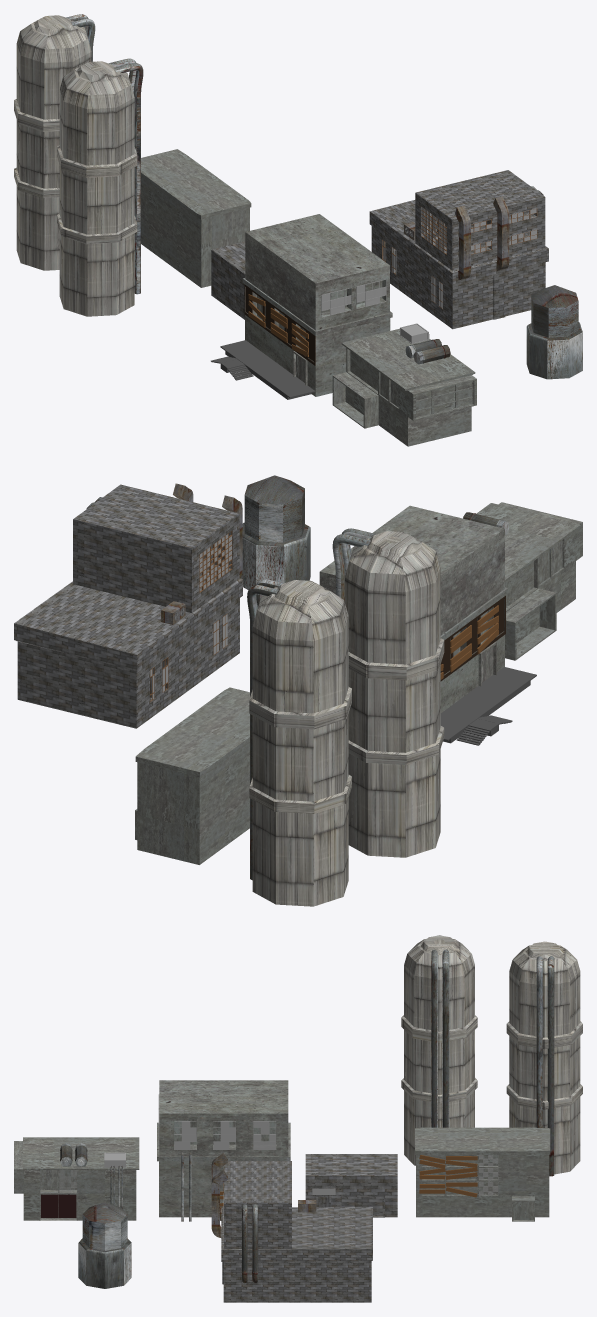
File: SM_T_Zone1.fbx
3 views of the same model, one above another, from view 1: azimuth 30°, elevation 25°; view 2: azimuth 150°, elevation 25°; view 3: azimuth 270°, elevation 25° (orthographic). The views are drawn at different scales.
Visible parts, largest first — view 1: polySurface208, polySurface204, polySurface177, polySurface211, polySurface198, polySurface193, polySurface176, polySurface210, polySurface191, pCube23, pCube69, pCube68 (+4 smaller); view 2: polySurface208, polySurface198, polySurface211, polySurface193, polySurface204, polySurface177, polySurface176, pCube23, polySurface210, pCube68, pCube14, polySurface205 (+3 smaller); view 3: polySurface208, polySurface204, polySurface198, polySurface211, polySurface177, polySurface210, polySurface193, polySurface191, polySurface176, pCube68, pCylinder41, pCube69 (+5 smaller).
Boxes of the visible parts, box(x1,y1,x2,y2) form: polySurface208: box(14, 15, 137, 316); polySurface204: box(242, 214, 392, 396); polySurface177: box(332, 328, 476, 446); polySurface211: box(141, 149, 251, 287); polySurface198: box(369, 200, 548, 329); polySurface193: box(415, 170, 545, 270); polySurface176: box(526, 285, 582, 379); polySurface210: box(66, 14, 143, 294); polySurface191: box(211, 241, 245, 319); pCube23: box(220, 340, 315, 399); pCube69: box(455, 196, 509, 279); pCube68: box(248, 294, 308, 356); polySurface208: box(249, 531, 444, 906); polySurface198: box(14, 578, 242, 728); polySurface211: box(135, 687, 249, 864); polySurface193: box(73, 484, 239, 612); polySurface204: box(319, 505, 507, 713); polySurface177: box(476, 502, 582, 660); polySurface176: box(241, 475, 310, 589); pCube23: box(440, 667, 536, 743); polySurface210: box(247, 528, 376, 880); pCube68: box(440, 605, 498, 679); pCube14: box(199, 531, 232, 592); polySurface205: box(440, 595, 505, 681); polySurface208: box(401, 935, 582, 1174); polySurface204: box(157, 1080, 290, 1217); polySurface198: box(221, 1207, 372, 1302); polySurface211: box(415, 1127, 550, 1221); polySurface177: box(14, 1137, 139, 1220); polySurface210: box(431, 949, 554, 1176); polySurface193: box(224, 1161, 291, 1248); polySurface191: box(305, 1154, 397, 1217); polySurface176: box(78, 1202, 131, 1288); pCube68: box(220, 1155, 477, 1209); pCylinder41: box(242, 1204, 258, 1283); pCube69: box(211, 1153, 227, 1237).
Size of the model in its own units: 3481 by 2055 by 4969.
Materials: 33 (13 with a texture image).
